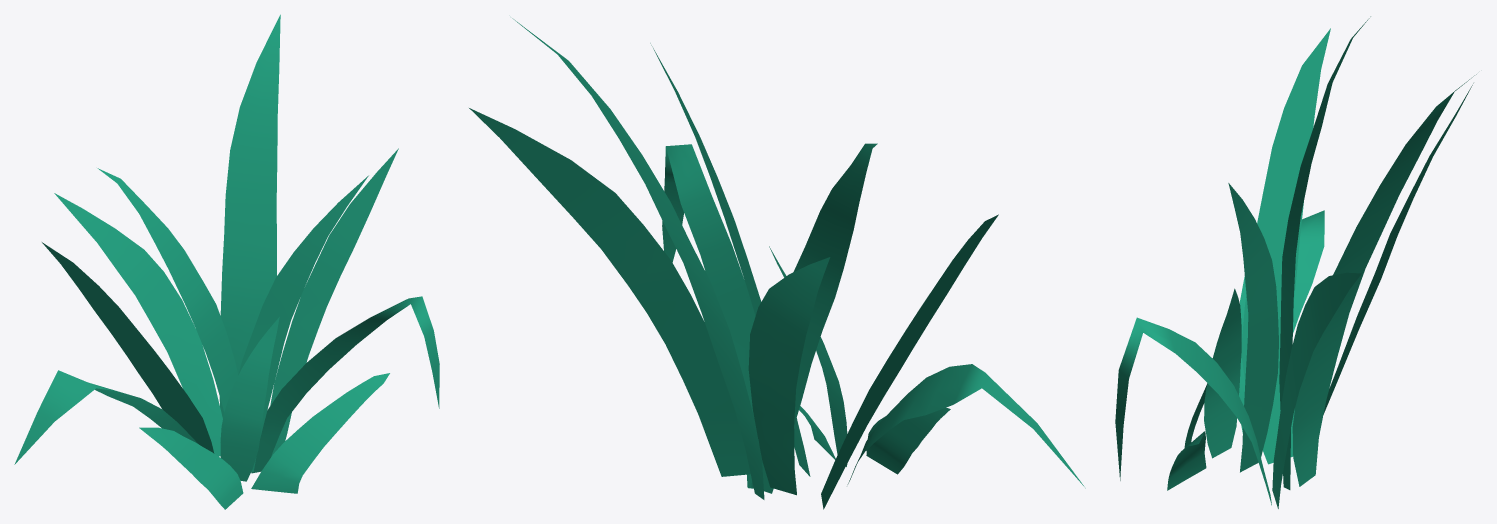
The model's file is Grass Clump.fbx.
3 views of the same model, side by side, from view 1: azimuth 30°, elevation 25°; view 2: azimuth 150°, elevation 25°; view 3: azimuth 270°, elevation 25° (orthographic). The views are drawn at different scales.
Parts seen in each view (by area): view 1: Grass_Clump; view 2: Grass_Clump; view 3: Grass_Clump.
Part boxes in pixels (x1,y1,x2,y2): Grass_Clump: [14, 14, 439, 509]; Grass_Clump: [469, 18, 1085, 509]; Grass_Clump: [1115, 16, 1476, 508].
Size of the model in its own units: 51.5 by 44.62 by 29.81.
Materials: 1 (1 with a texture image).
